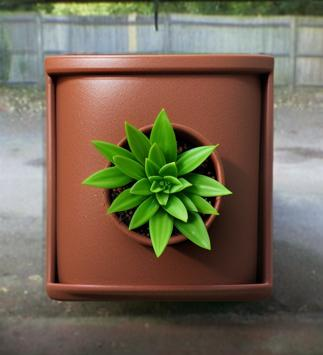pottedplant: (42, 52, 273, 301)
